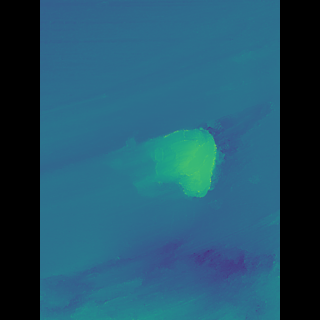Loch: (71, 218, 251, 319), (124, 97, 244, 204)
